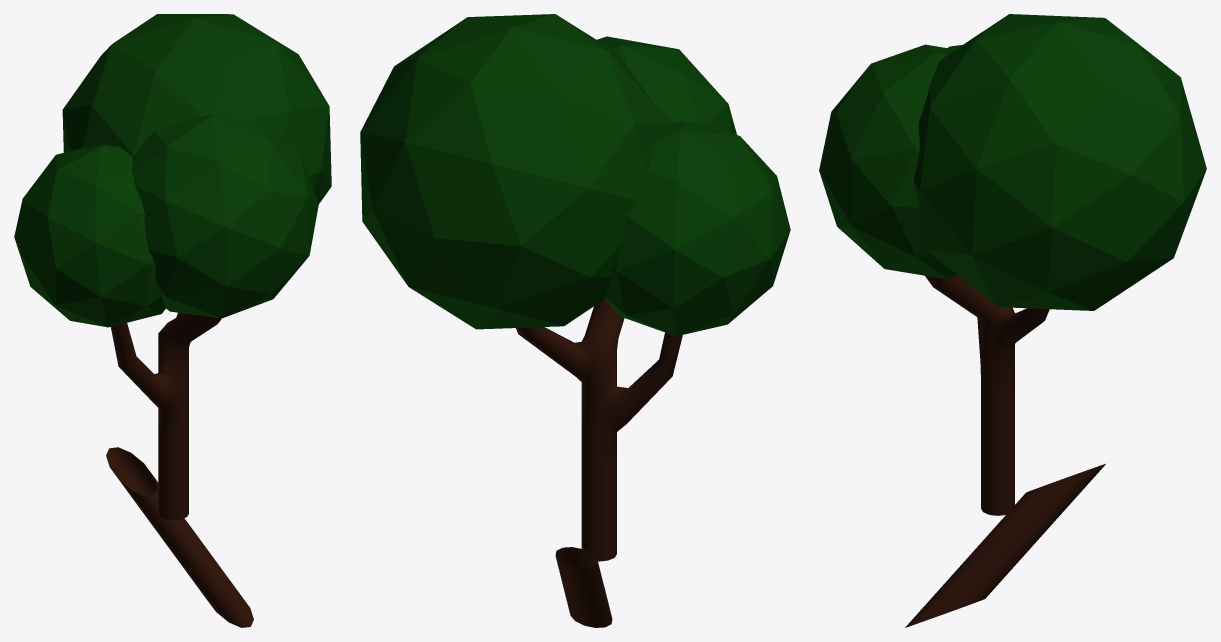
File: boom.FBX
3 renders of one model, left to right at view 1: azimuth 30°, elevation 25°; view 2: azimuth 150°, elevation 25°; view 3: azimuth 270°, elevation 25°, orthographic. The views are drawn at different scales.
Parts seen in each view (by area): view 1: GeoSphere004, Object001; view 2: GeoSphere004, Object001; view 3: GeoSphere004, Object001.
Part boxes in pixels (x1,y1,x2,y2): GeoSphere004: [14, 14, 331, 520]; Object001: [106, 447, 253, 627]; GeoSphere004: [360, 14, 790, 561]; Object001: [555, 547, 612, 627]; GeoSphere004: [819, 14, 1206, 515]; Object001: [905, 464, 1105, 627].
Size of the model in its own units: 79.04 by 131 by 75.21.
